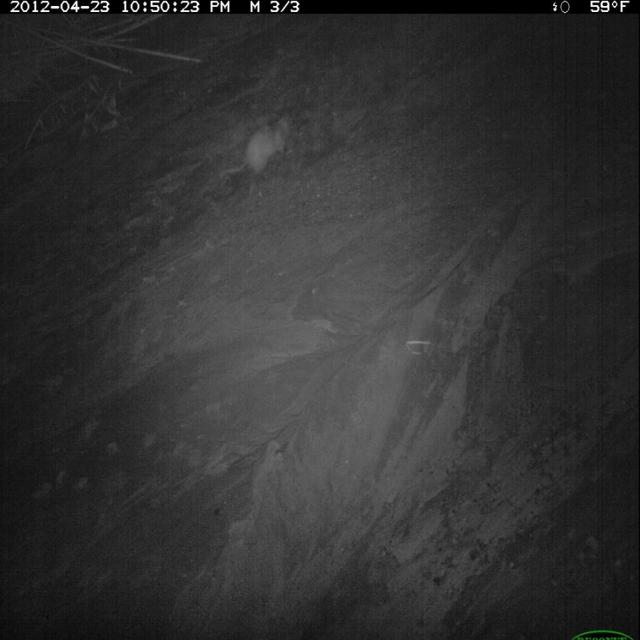opossum: (219, 112, 296, 195)
